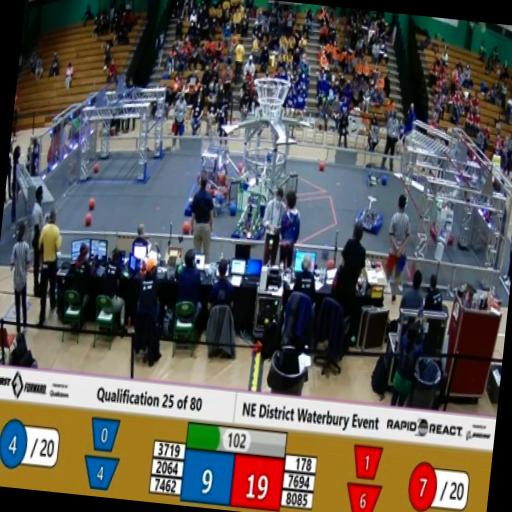robot: (428, 177, 464, 249), (232, 186, 272, 250), (196, 139, 236, 202), (183, 168, 220, 221), (352, 192, 390, 236)
